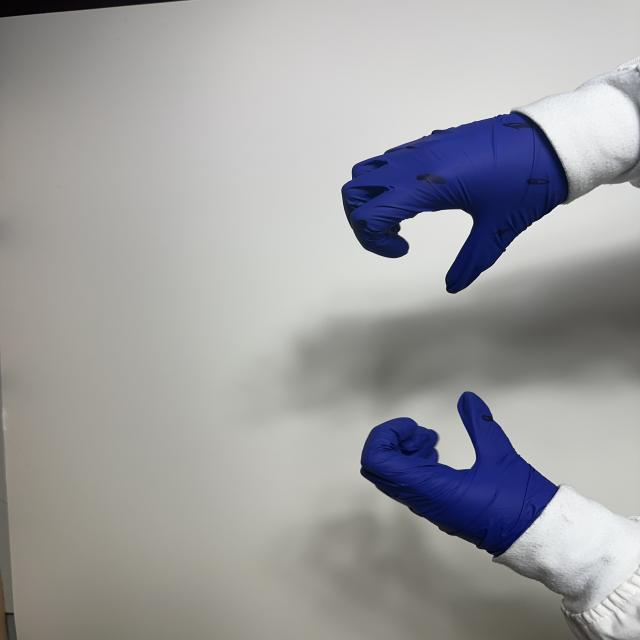gloves_contaminated: (342, 114, 568, 293), (362, 392, 558, 556)
